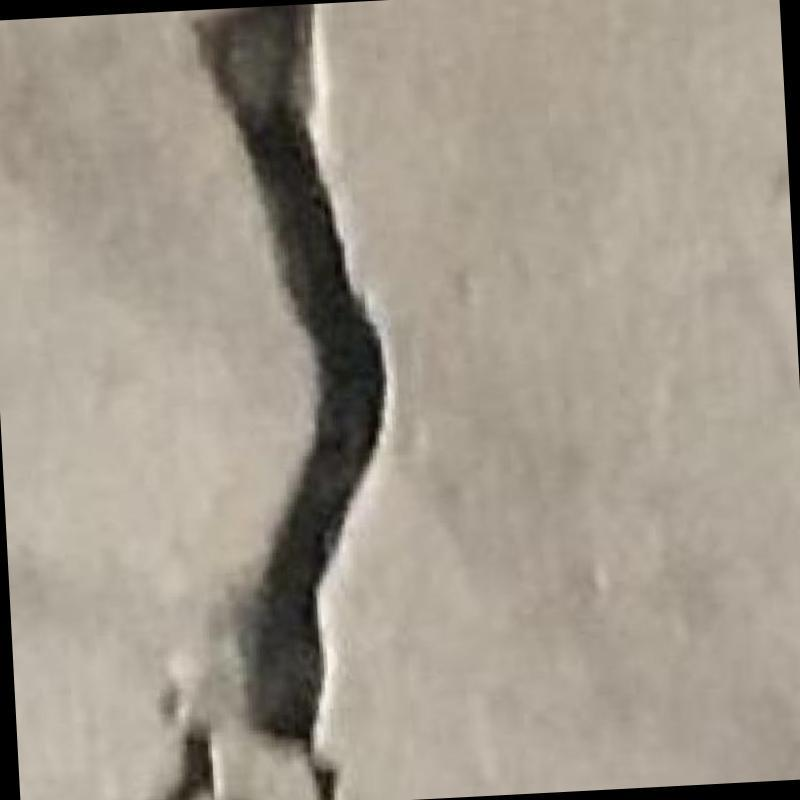pothole: (193, 4, 384, 800)
